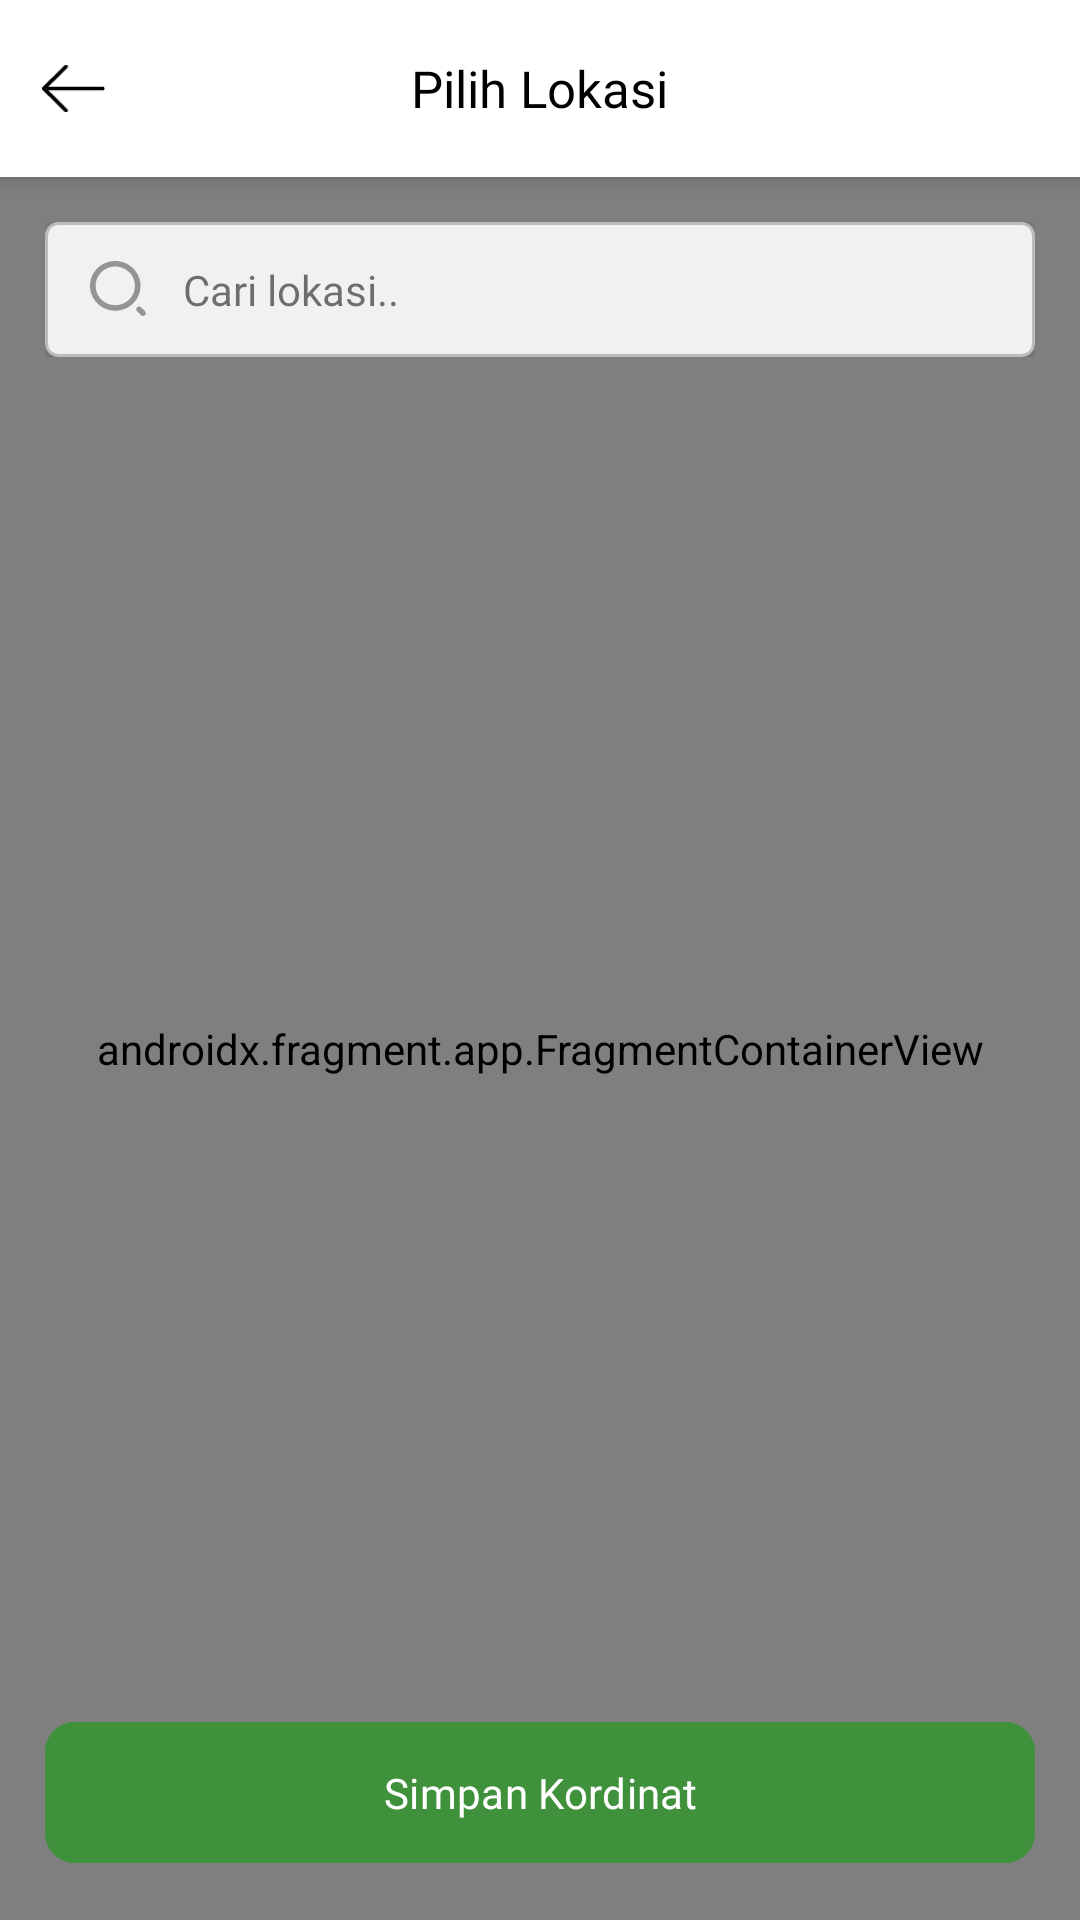

Icon bounding boxes for this 1080 x 1920 phone screenshot, format (x1, y1, x2, y2):
arrow left: (42, 65, 105, 112)
